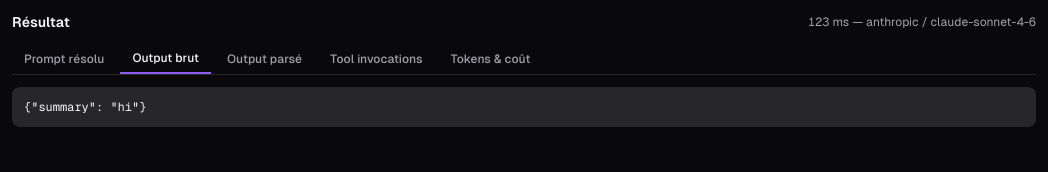
Test: OutputInspector › shows an accurate message (not 'invalid JSON') when parsed_output is a non-object
The image size is (1048, 172).
Click the tab with test id "playground-tab-parsed" at point(264, 59), box [215, 44, 314, 74]
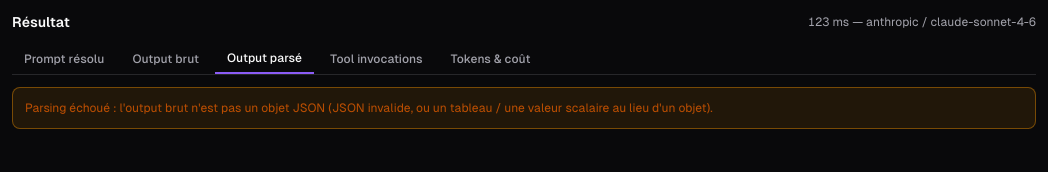
Expected: the element with test id "playground-tab-parsed-content" does not show "n'est pas un objet JSON valide", [12, 87, 1036, 129]
Expected: the element with test id "playground-tab-parsed-content" shows "l'output brut n'est pas un objet JSON (JSON invalide, ou un tableau / une valeur scalaire au lieu d'un objet)", [25, 101, 713, 115]
